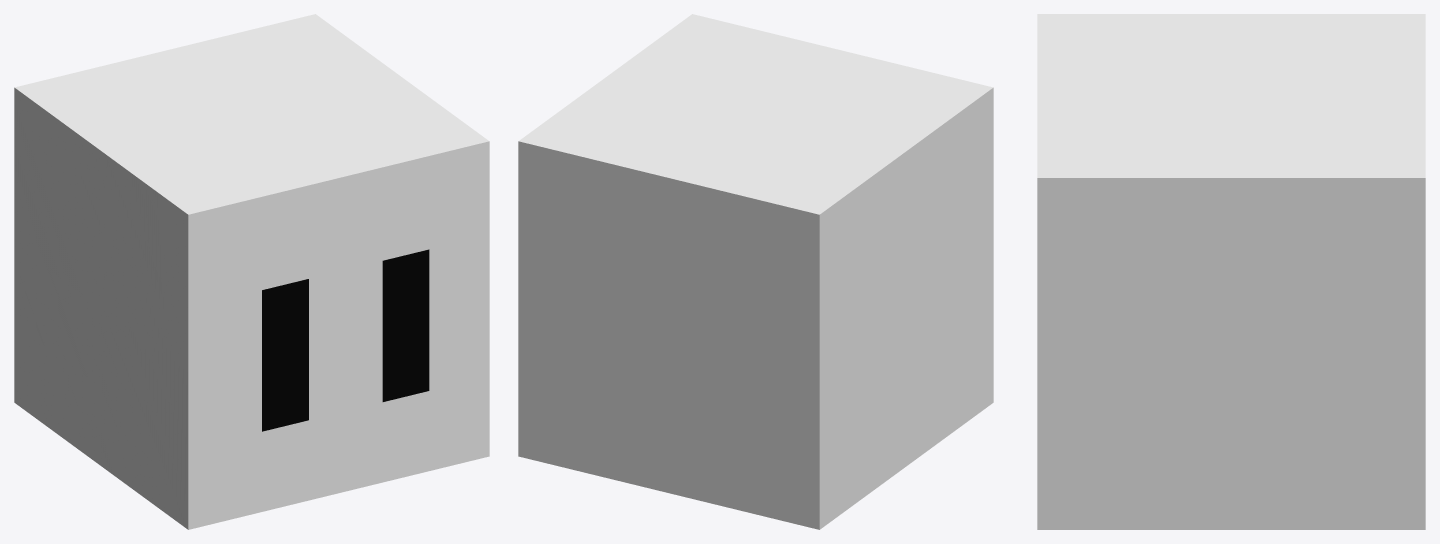
Rendered from haco-normal.glb.
3 views of the same model, side by side, from view 1: azimuth 30°, elevation 25°; view 2: azimuth 150°, elevation 25°; view 3: azimuth 270°, elevation 25° (orthographic). The views are drawn at different scales.
Visible parts, largest first — view 1: pCube1, pPlane2, pPlane1; view 2: pCube1; view 3: pCube1.
Part boxes in pixels (bbox=[...]): pCube1: bbox=[14, 14, 489, 529]; pPlane2: bbox=[382, 249, 429, 401]; pPlane1: bbox=[262, 279, 308, 431]; pCube1: bbox=[518, 14, 993, 529]; pCube1: bbox=[1037, 14, 1425, 529].
Size of the model in its own units: 0.05 by 0.05 by 0.0519.
Materials: 1 (1 with a texture image).
